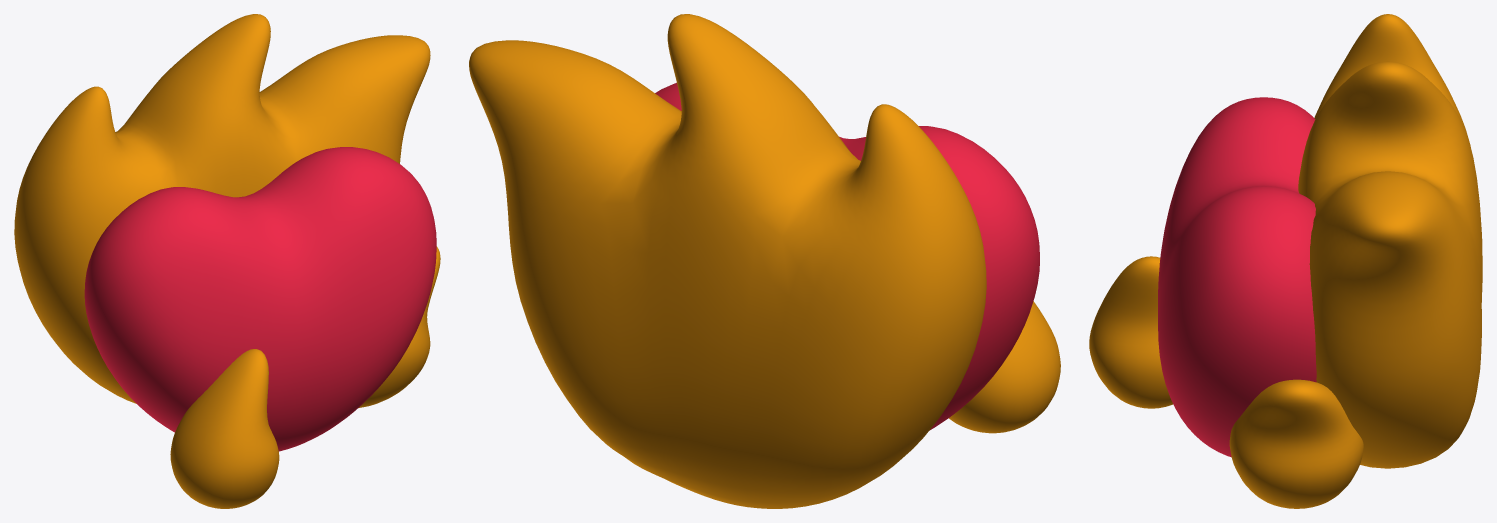
The model's file is burning-love-emoji-animated-3d-icon-1085213878533.glb.
The picture shows the model from 3 angles, left to right: view 1: azimuth 30°, elevation 25°; view 2: azimuth 150°, elevation 25°; view 3: azimuth 270°, elevation 25°; orthographic projection. The views are drawn at different scales.
Visible parts, largest first — view 1: Cube.009, Cube.007, Cube.008, Cube.010; view 2: Cube.007, Cube.009, Cube.008; view 3: Cube.007, Cube.009, Cube.010, Cube.008.
Boxes of the visible parts, left/top/right/bottom form: Cube.009: left=84, top=147, right=436, bottom=451; Cube.007: left=14, top=14, right=430, bottom=403; Cube.008: left=170, top=349, right=279, bottom=508; Cube.010: left=359, top=246, right=440, bottom=407; Cube.007: left=469, top=14, right=986, bottom=508; Cube.009: left=655, top=82, right=1039, bottom=430; Cube.008: left=949, top=301, right=1060, bottom=433; Cube.007: left=1298, top=14, right=1482, bottom=468; Cube.009: left=1158, top=97, right=1316, bottom=457; Cube.010: left=1229, top=379, right=1363, bottom=508; Cube.008: left=1089, top=256, right=1172, bottom=408.
Size of the model in its own units: 1.54 by 1.38 by 1.2.
